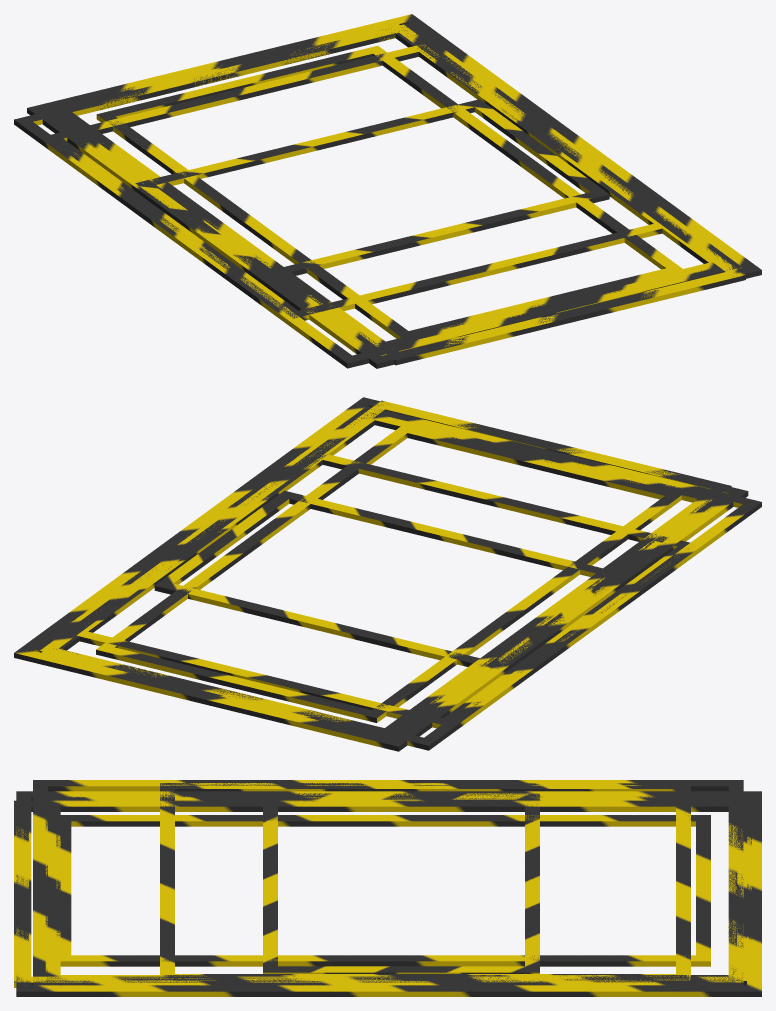
Rendered from huangxian_low.fbx.
3 views of the same model, one above another, from view 1: azimuth 30°, elevation 25°; view 2: azimuth 150°, elevation 25°; view 3: azimuth 270°, elevation 25° (orthographic). The views are drawn at different scales.
Parts seen in each view (by area): view 1: huangxian_07, huangxian_03, huangxian_05, huangxian_04, huangxian_01, huangxian_06, huangxian_02; view 2: huangxian_05, huangxian_03, huangxian_07, huangxian_01, huangxian_04, huangxian_06, huangxian_02; view 3: huangxian_03, huangxian_05, huangxian_07, huangxian_01, huangxian_04, huangxian_02, huangxian_06.
Boxes of the visible parts, x1=… form: huangxian_07: x1=54, y1=24, x2=745, y2=365; huangxian_03: x1=96, y1=45, x2=684, y2=338; huangxian_05: x1=27, y1=14, x2=761, y2=368; huangxian_04: x1=45, y1=44, x2=665, y2=320; huangxian_01: x1=14, y1=23, x2=742, y2=368; huangxian_06: x1=135, y1=99, x2=609, y2=277; huangxian_02: x1=42, y1=23, x2=718, y2=350; huangxian_05: x1=14, y1=397, x2=748, y2=751; huangxian_03: x1=96, y1=425, x2=683, y2=722; huangxian_07: x1=39, y1=400, x2=731, y2=735; huangxian_01: x1=34, y1=405, x2=761, y2=750; huangxian_04: x1=76, y1=453, x2=689, y2=728; huangxian_06: x1=154, y1=490, x2=620, y2=669; huangxian_02: x1=41, y1=413, x2=722, y2=738; huangxian_03: x1=56, y1=815, x2=710, y2=966; huangxian_05: x1=16, y1=791, x2=761, y2=996; huangxian_07: x1=14, y1=800, x2=743, y2=987; huangxian_01: x1=33, y1=780, x2=743, y2=985; huangxian_04: x1=160, y1=783, x2=690, y2=980; huangxian_02: x1=45, y1=796, x2=751, y2=985; huangxian_06: x1=263, y1=793, x2=539, y2=973.
Bounding box in the file's own units: 290 × 3.37 × 433.
